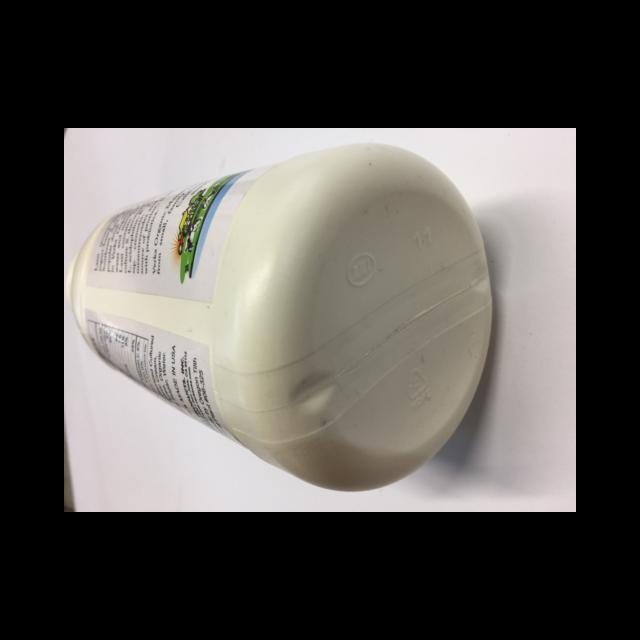plastic: (64, 141, 492, 490)
